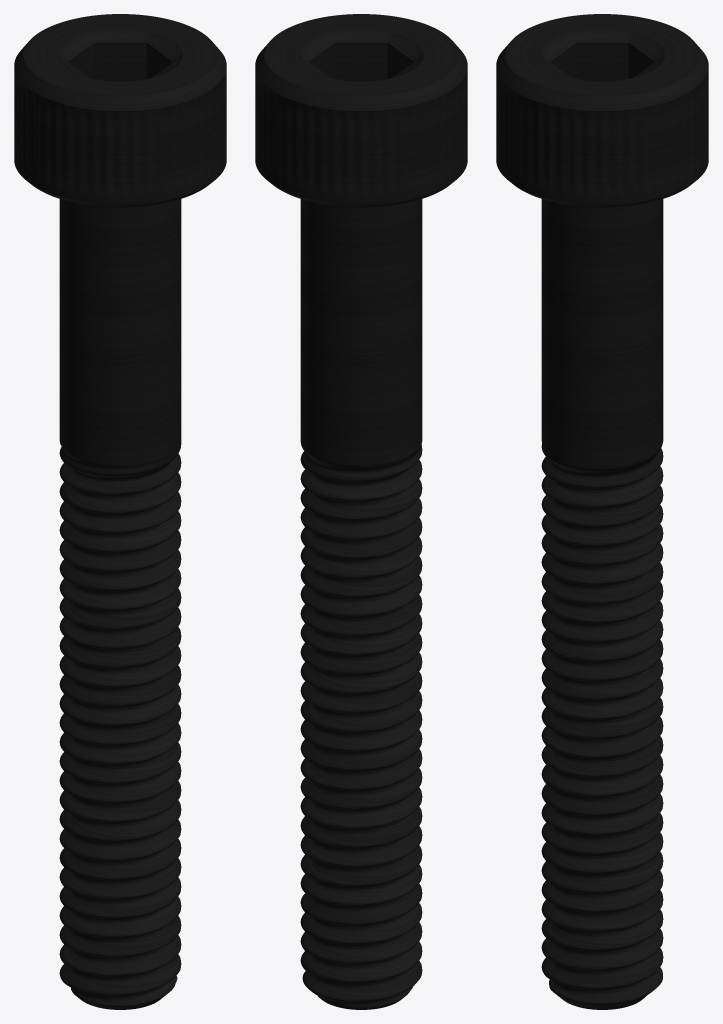
File: socket_head_screw_M4x30.glb
3 views of the same model, side by side, from view 1: azimuth 30°, elevation 25°; view 2: azimuth 150°, elevation 25°; view 3: azimuth 270°, elevation 25° (orthographic).
Parts seen in each view (by area): view 1: SocketHeadCapScrew_M4x30; view 2: SocketHeadCapScrew_M4x30; view 3: SocketHeadCapScrew_M4x30.
Part boxes in pixels (left/top/right/bottom): SocketHeadCapScrew_M4x30: left=14, top=14, right=226, bottom=1009; SocketHeadCapScrew_M4x30: left=255, top=14, right=467, bottom=1009; SocketHeadCapScrew_M4x30: left=496, top=14, right=708, bottom=1009.
Size of the model in its own units: 0.007 by 0.034 by 0.007.
Materials: 1 (1 with a texture image).
